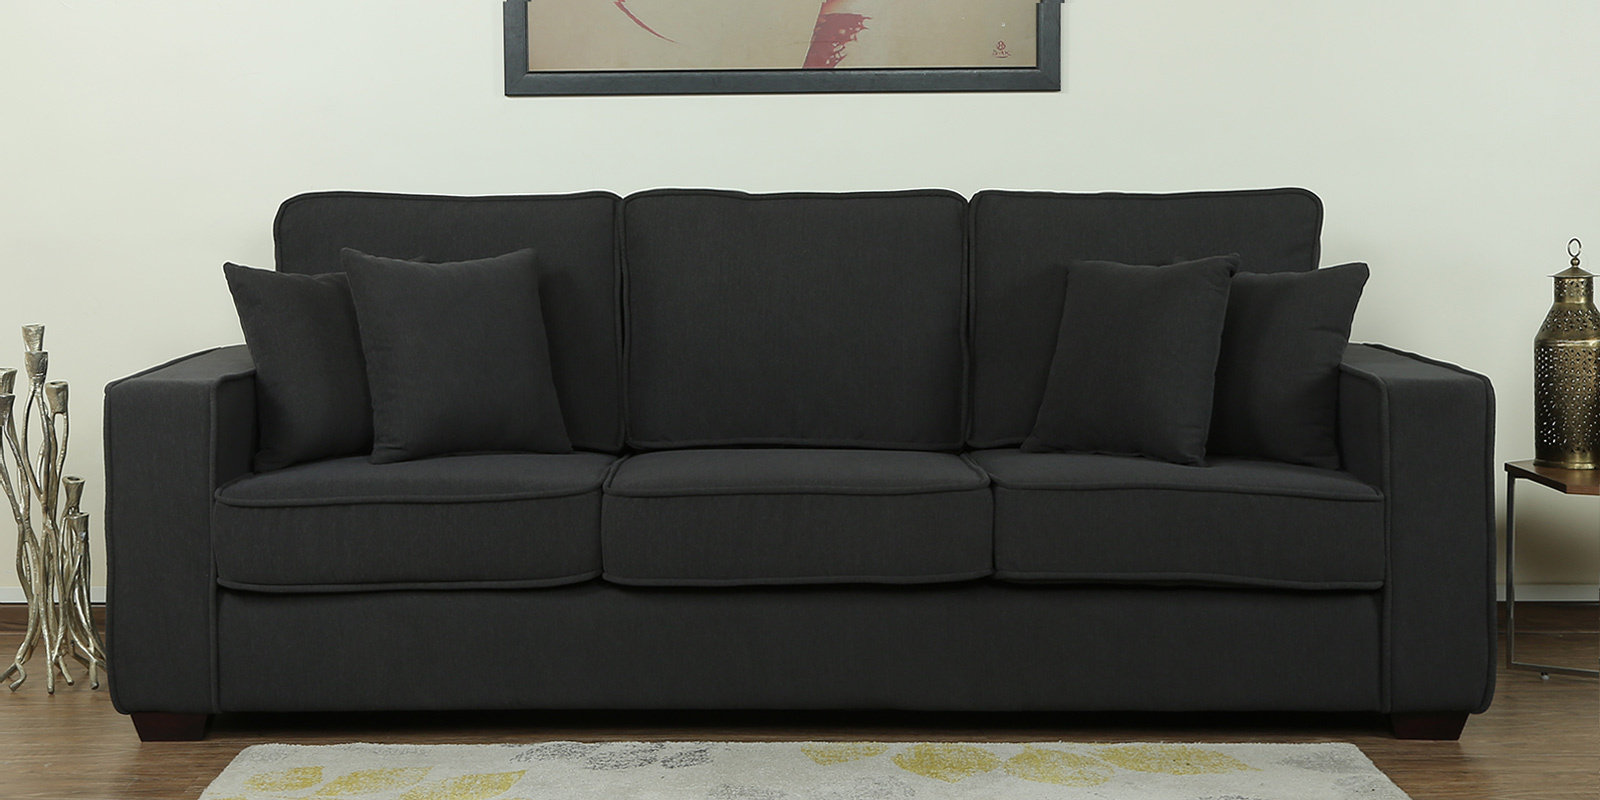Hugo Three Seater Sofa in Charcoal Grey Colour by CasaCraft: (68, 172, 1505, 751)
